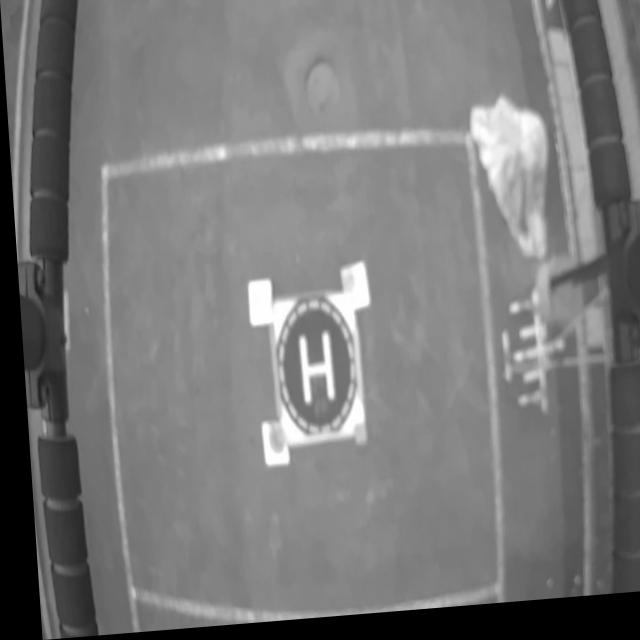Helipad: (294, 338, 330, 412)
